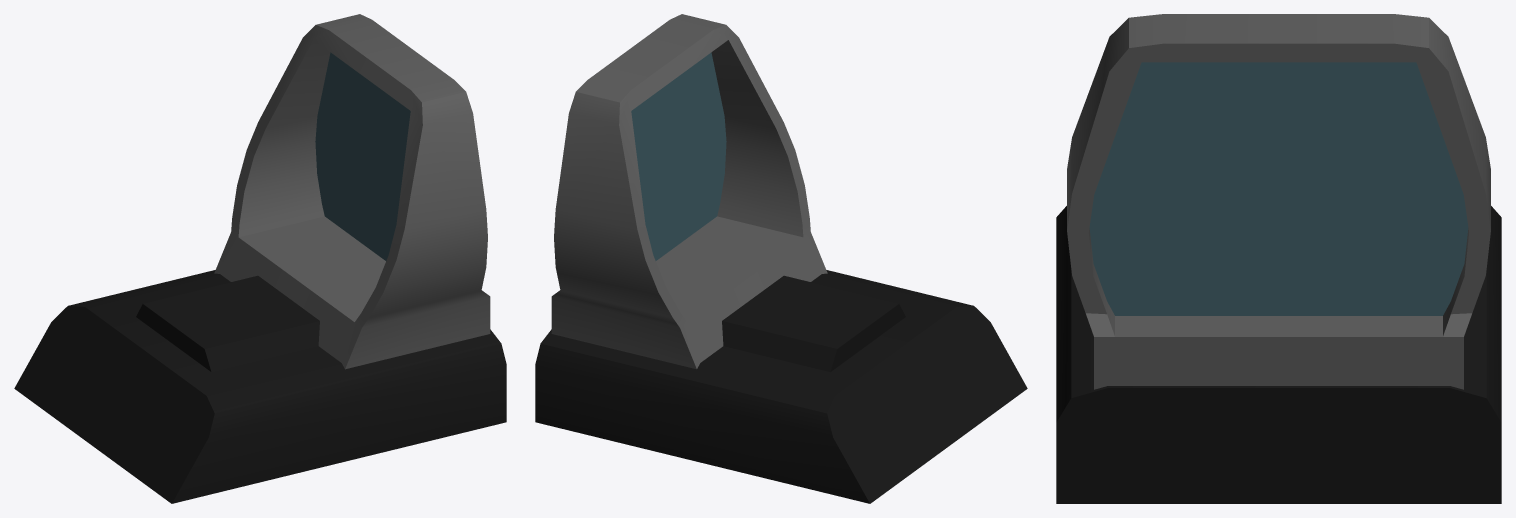
Rendered from Sight_3.obj.
The picture shows the model from 3 angles, left to right: view 1: azimuth 30°, elevation 25°; view 2: azimuth 150°, elevation 25°; view 3: azimuth 270°, elevation 25°; orthographic projection. The views are drawn at different scales.
Visible parts, largest first — view 1: Sight_3_Cube.219; view 2: Sight_3_Cube.219; view 3: Sight_3_Cube.219.
Boxes of the visible parts, bbox=[...] form: Sight_3_Cube.219: bbox=[14, 14, 506, 503]; Sight_3_Cube.219: bbox=[535, 14, 1027, 503]; Sight_3_Cube.219: bbox=[1056, 14, 1501, 503].
Bounding box in the file's own units: 0.1203 × 0.1093 × 0.098.
